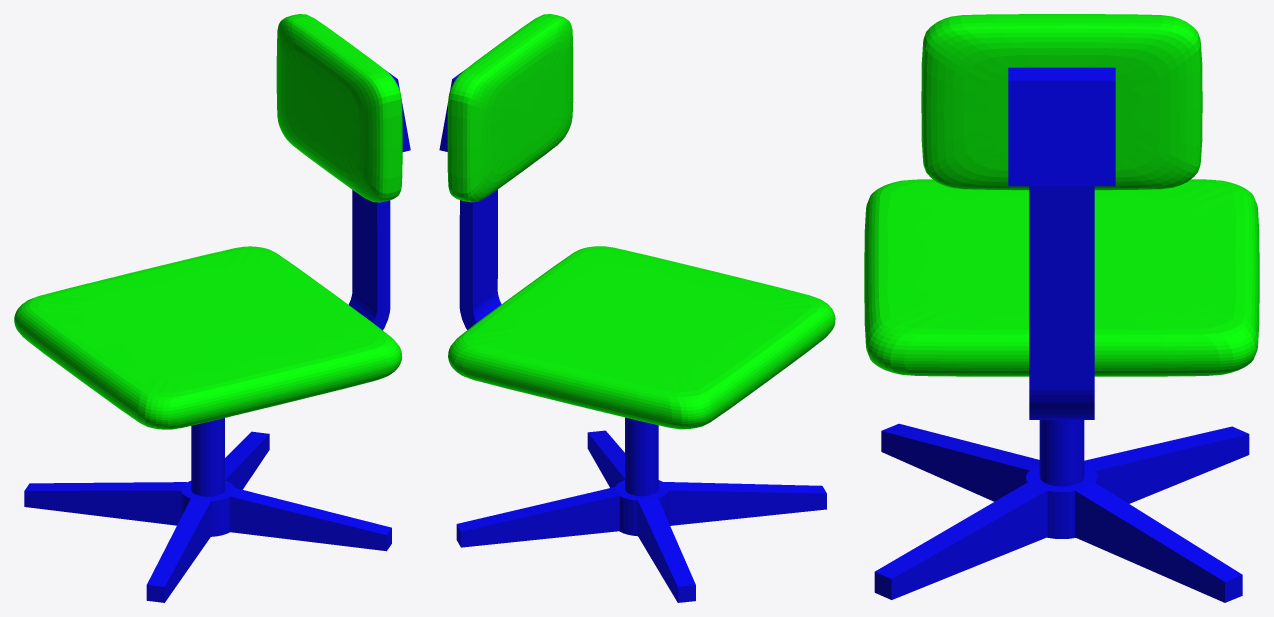
File: SM_Chair.fbx
3 renders of one model, left to right at view 1: azimuth 30°, elevation 25°; view 2: azimuth 150°, elevation 25°; view 3: azimuth 270°, elevation 25°, orthographic. The views are drawn at different scales.
Parts seen in each view (by area): view 1: SM_Chair; view 2: SM_Chair; view 3: SM_Chair.
Part boxes in pixels (<box>): SM_Chair: <box>14,14,410,602</box>; SM_Chair: <box>439,14,835,602</box>; SM_Chair: <box>864,14,1259,602</box>.
Size of the model in its own units: 63.8 by 76.71 by 105.
